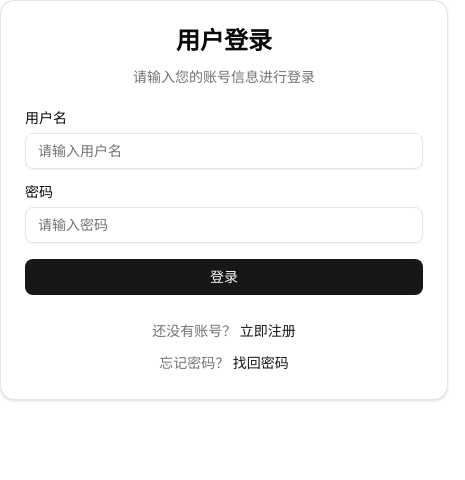
Test: LoginForm › handles successful login
In the field labelled "用户名": (224, 151) [25, 133, 423, 169], type "testuser"
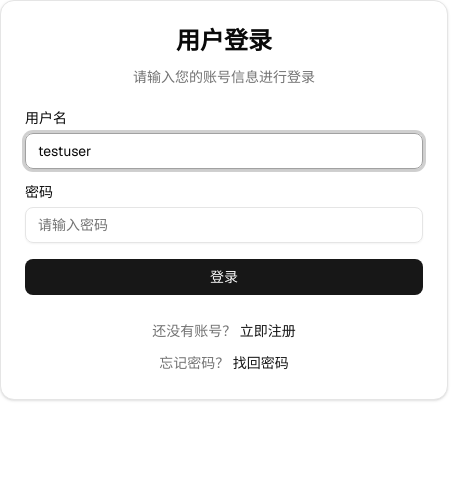
In the password field labelled "密码": (224, 225) [25, 207, 423, 243], type "password123"
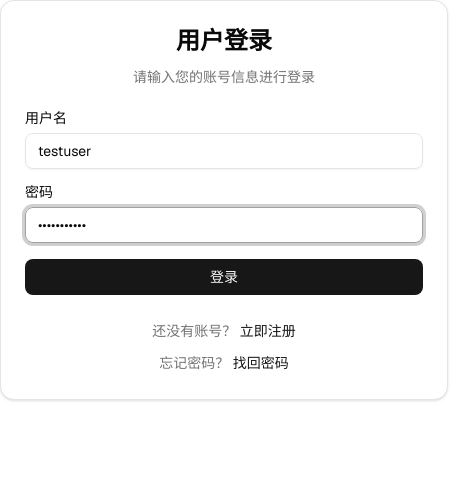
Click the button "登录": (224, 277) [25, 259, 423, 295]
Wait 1000 ms
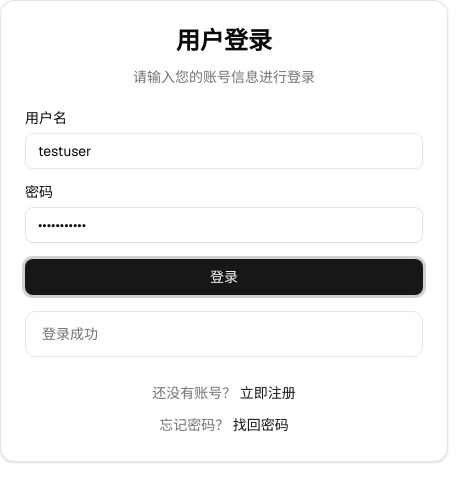
Check: the text "登录成功" is shown, box [42, 325, 98, 343]
